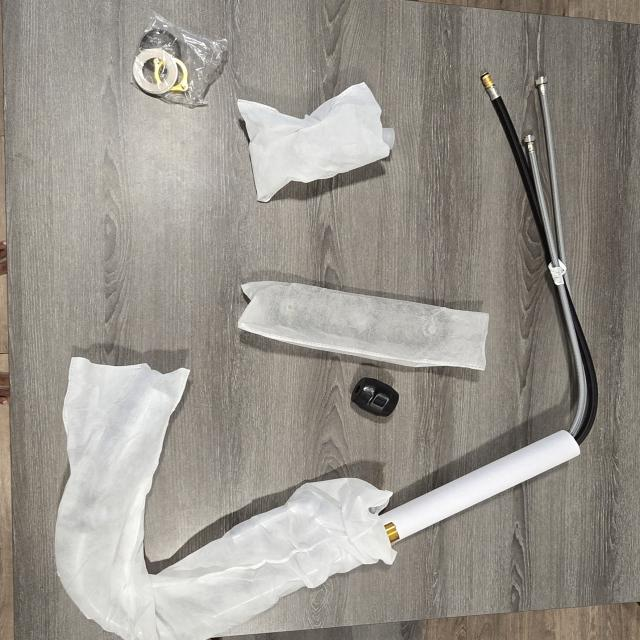1c: (55, 73, 597, 640)
2c: (238, 82, 394, 202)
4c: (238, 281, 489, 370)
5: (351, 377, 399, 417)
6: (133, 13, 228, 108)
